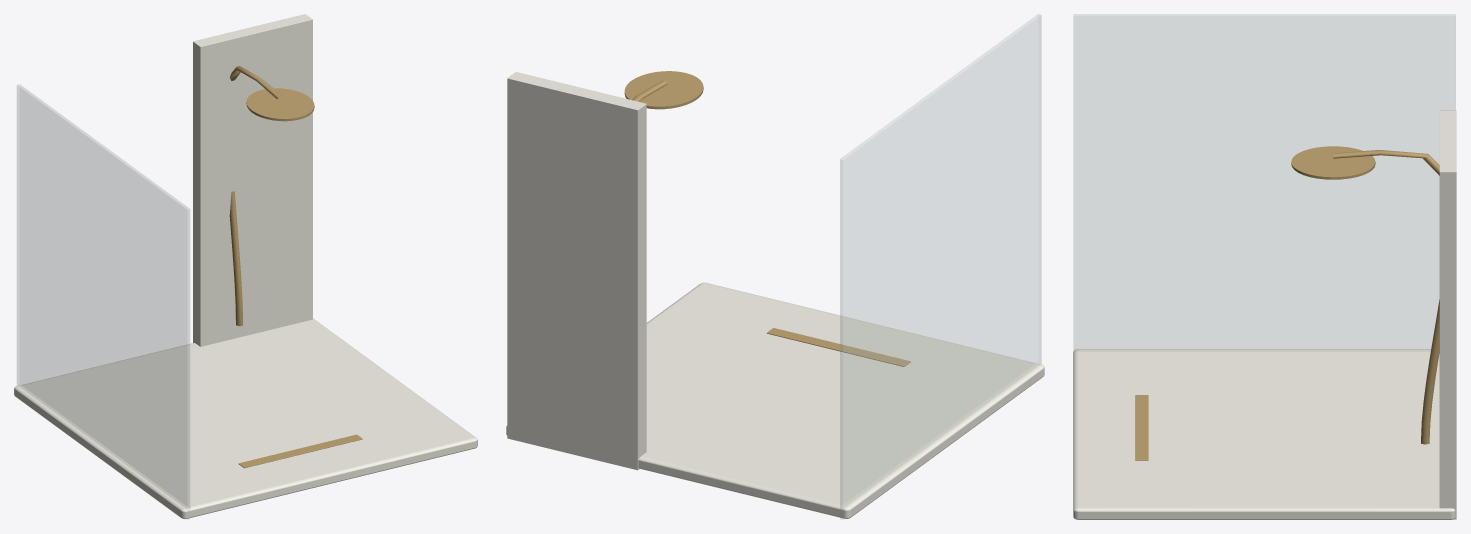
File: shower-11-2.glb
3 views of the same model, side by side, from view 1: azimuth 30°, elevation 25°; view 2: azimuth 150°, elevation 25°; view 3: azimuth 270°, elevation 25° (orthographic). The views are drawn at different scales.
Visible parts, largest first — view 1: upholstery (×2), part; view 2: upholstery (×2), part; view 3: upholstery (×2), part.
Part boxes in pixels (x1=…): upholstery (×2): x1=14, y1=14, x2=477, y2=519; part: x1=229, y1=66, x2=362, y2=468; upholstery (×2): x1=506, y1=14, x2=1044, y2=519; part: x1=624, y1=71, x2=910, y2=366; upholstery (×2): x1=1073, y1=14, x2=1456, y2=519; part: x1=1135, y1=146, x2=1439, y2=460.
Size of the model in its own units: 1 by 1 by 1.
